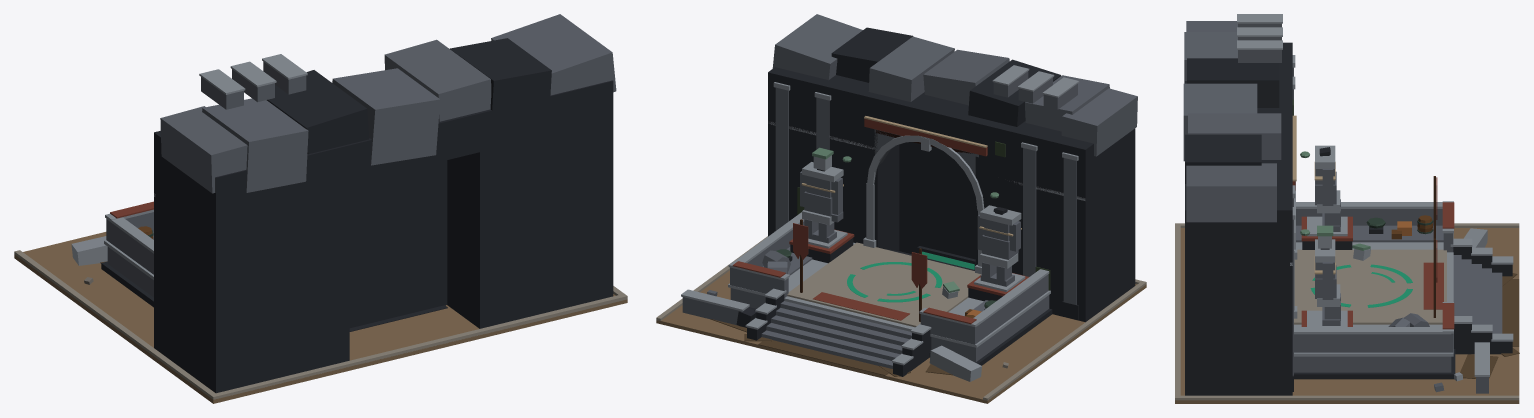
File: 地下城入口_手游_中.glb
3 renders of one model, left to right at view 1: azimuth 30°, elevation 25°; view 2: azimuth 150°, elevation 25°; view 3: azimuth 270°, elevation 25°, orthographic. The views are drawn at different scales.
Visible parts, largest first — view 1: UC-主体; view 2: UC-主体, UC-team, UC-自发光, UC-team_trim; view 3: UC-主体, UC-team, UC-自发光, UC-team_trim.
Boxes of the visible parts, bbox=[...] form: UC-主体: bbox=[14, 14, 627, 403]; UC-主体: bbox=[656, 14, 1146, 403]; UC-team: bbox=[732, 118, 1028, 324]; UC-自发光: bbox=[847, 130, 974, 302]; UC-team_trim: bbox=[801, 116, 1021, 236]; UC-主体: bbox=[1175, 14, 1519, 403]; UC-team: bbox=[1292, 177, 1454, 329]; UC-自发光: bbox=[1310, 264, 1412, 307]; UC-team_trim: bbox=[1292, 115, 1335, 274].
Bounding box in the file's own units: 14.6 × 9.18 × 12.17.
Materials: 4 (2 with a texture image).
